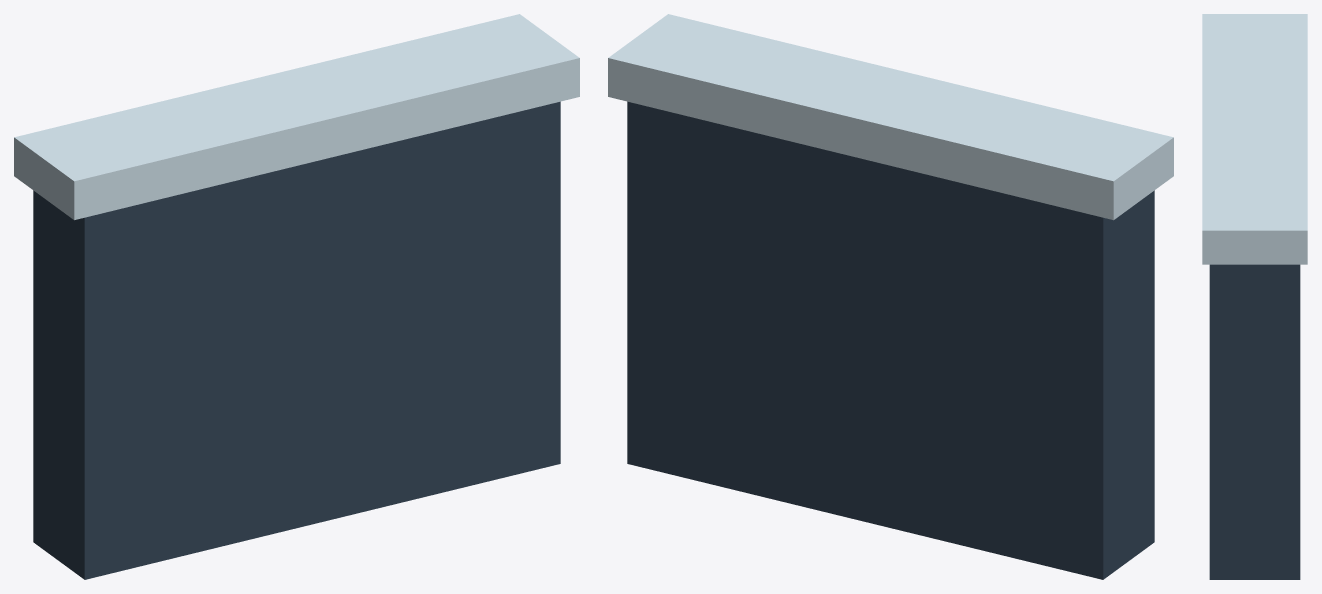
Rendered from temple_wall.glb.
3 renders of one model, left to right at view 1: azimuth 30°, elevation 25°; view 2: azimuth 150°, elevation 25°; view 3: azimuth 270°, elevation 25°, orthographic. The views are drawn at different scales.
Bounding box in the file's own units: 3.4 × 2.61 × 0.7.
